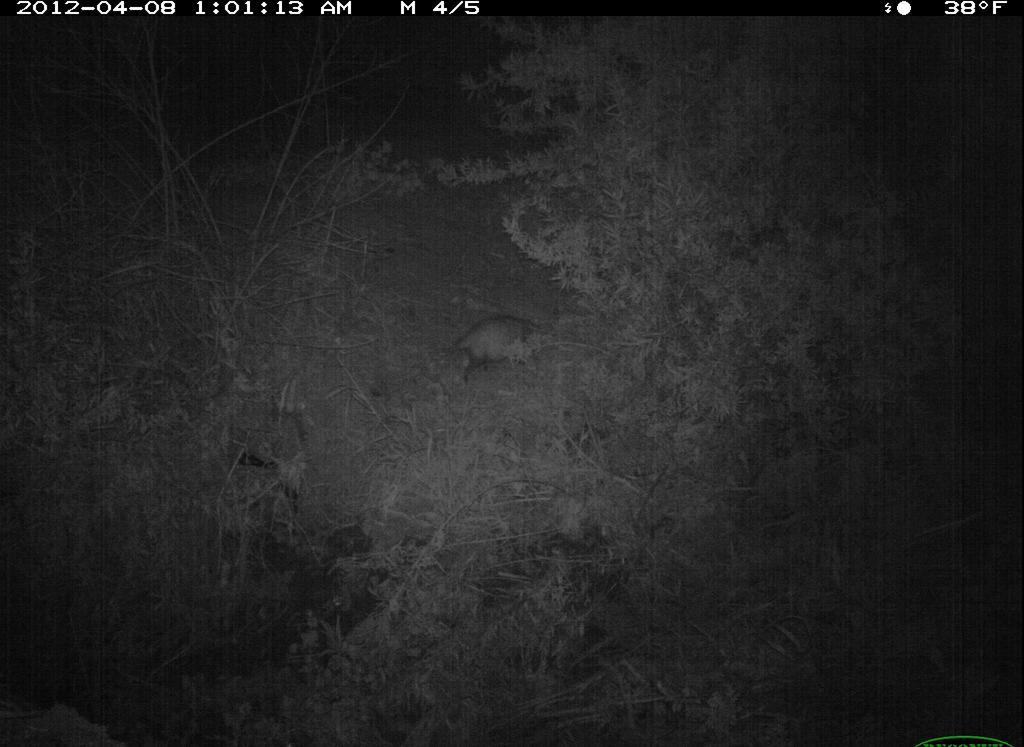opossum: (420, 309, 556, 387)
